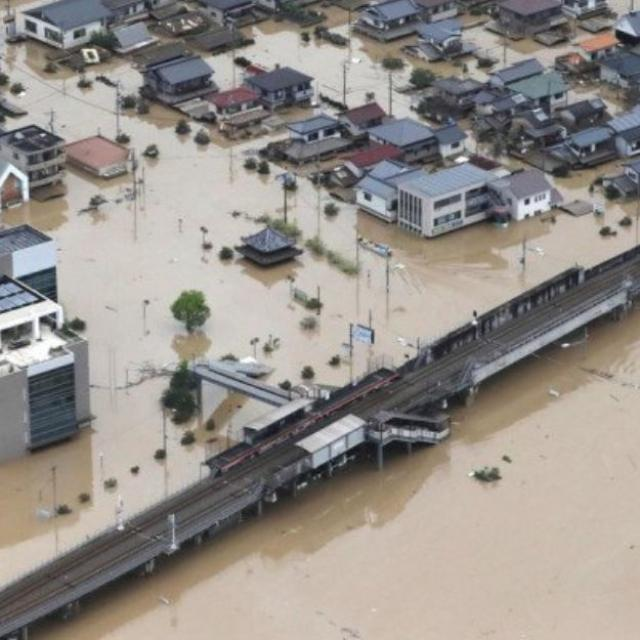flooded_areas: (0, 8, 623, 602)
